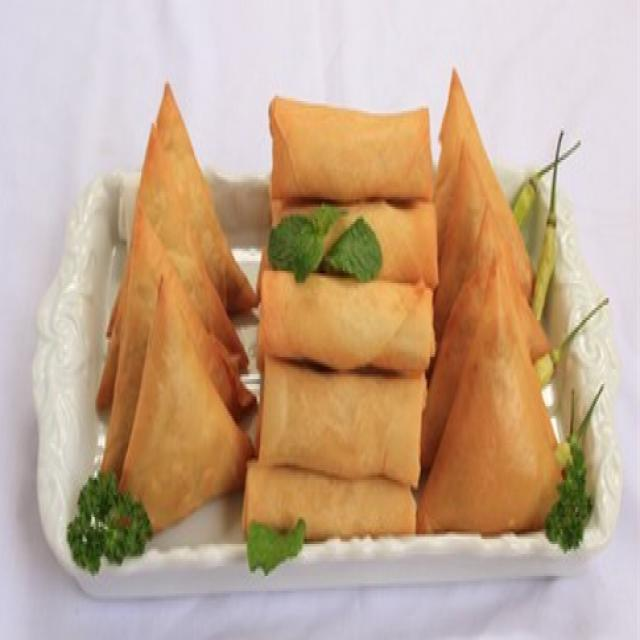Samosa: (91, 76, 251, 539), (422, 59, 564, 527)
Spring Rolls: (243, 89, 435, 554)
